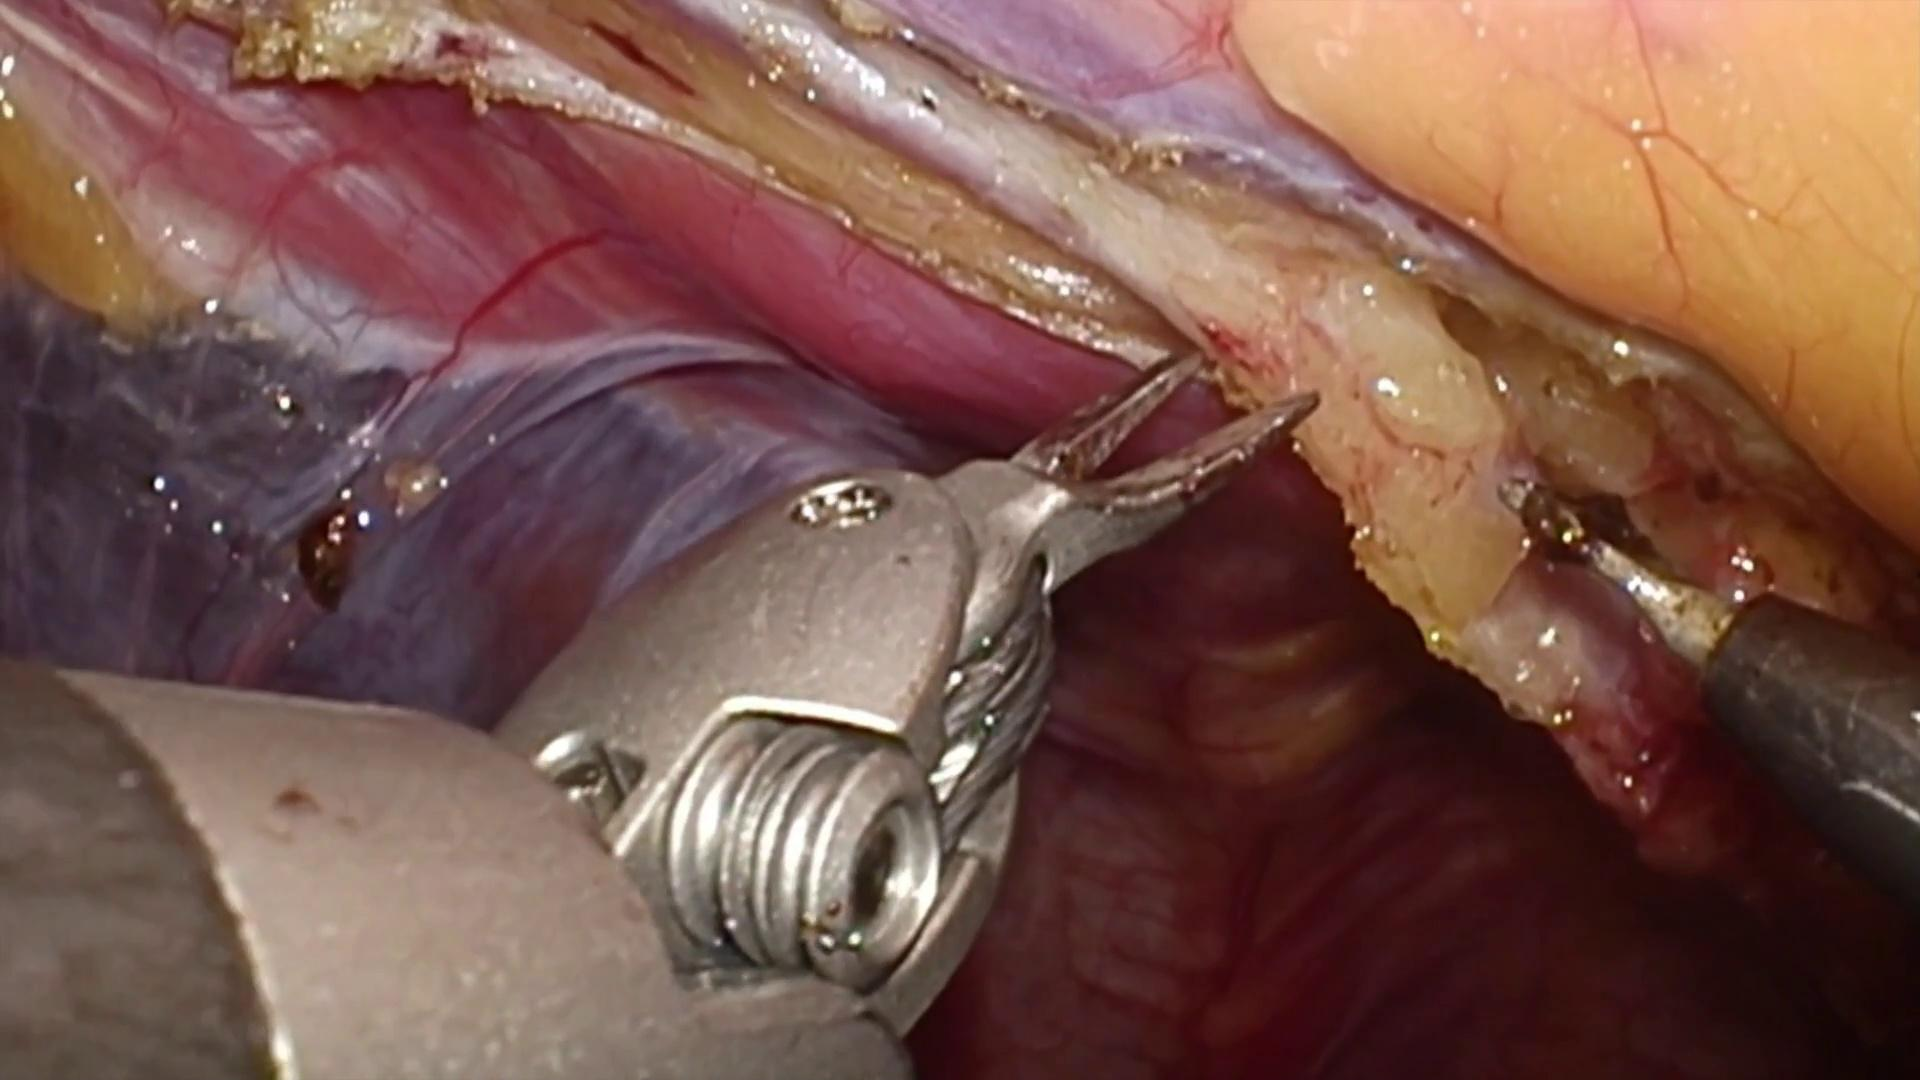Cautery_Spatula: (1502, 476, 1920, 935)
Debakey: (948, 328, 1323, 626)
